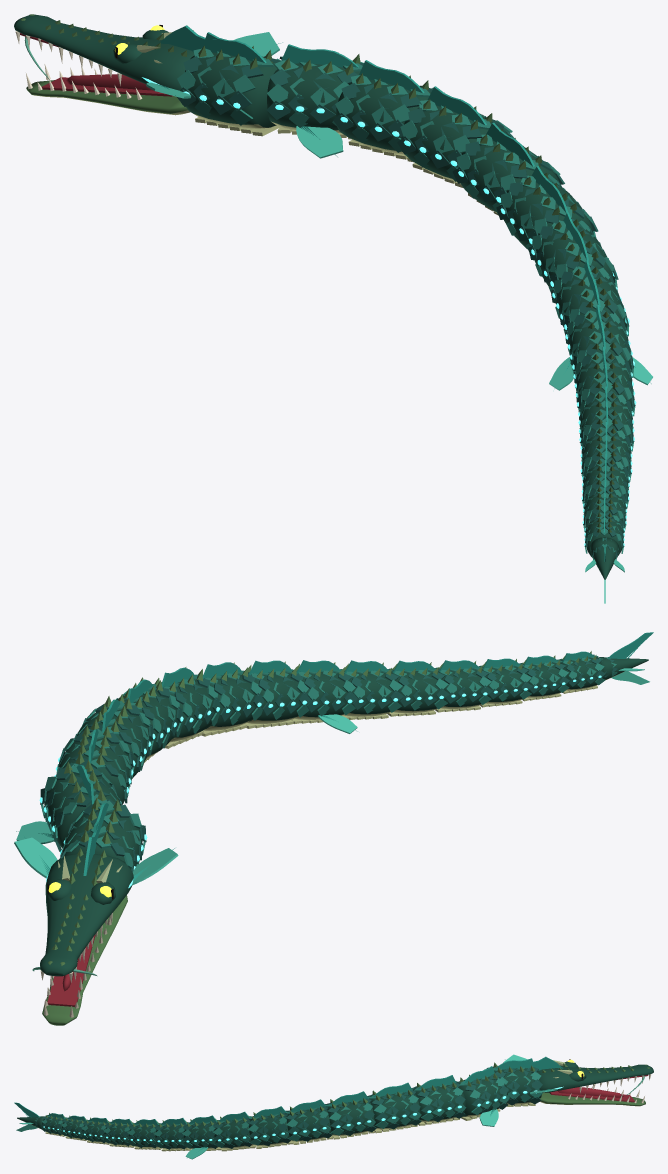
Rendered from thuongluong.glb.
3 views of the same model, one above another, from view 1: azimuth 30°, elevation 25°; view 2: azimuth 150°, elevation 25°; view 3: azimuth 270°, elevation 25° (orthographic). The views are drawn at different scales.
Visible parts, largest first — view 1: HEAD, POSE_SEG_00, POSE_SEG_01, SEG, POSE_SEG_03, POSE_SEG_04, POSE_SEG_05, JAW, POSE_SEG_06, POSE_SEG_07, POSE_SEG_08, POSE_SEG_09 (+7 smaller); view 2: HEAD, POSE_SEG_00, POSE_SEG_01, POSE_SEG_07, SEG, POSE_SEG_06, JAW, POSE_SEG_05, POSE_SEG_08, POSE_SEG_09, POSE_SEG_03, POSE_SEG_10 (+7 smaller); view 3: HEAD, POSE_SEG_03, SEG, POSE_SEG_01, POSE_SEG_04, POSE_SEG_00, POSE_SEG_05, JAW, POSE_SEG_06, POSE_SEG_07, POSE_SEG_08, POSE_SEG_09 (+7 smaller).
Part boxes in pixels (box(x1,y1,x2,y2)): HEAD: box(14, 14, 282, 98); POSE_SEG_00: box(177, 32, 281, 136); POSE_SEG_01: box(266, 44, 363, 139); SEG: box(333, 60, 432, 162); POSE_SEG_03: box(397, 86, 514, 187); POSE_SEG_04: box(452, 122, 564, 215); POSE_SEG_05: box(496, 166, 598, 250); JAW: box(26, 64, 190, 115); POSE_SEG_06: box(528, 212, 618, 292); POSE_SEG_07: box(550, 260, 629, 336); POSE_SEG_08: box(565, 305, 634, 377); POSE_SEG_09: box(573, 347, 636, 416); HEAD: box(14, 823, 178, 982); POSE_SEG_00: box(59, 797, 147, 871); POSE_SEG_01: box(39, 760, 121, 851); POSE_SEG_07: box(245, 660, 310, 728); SEG: box(54, 725, 135, 804); POSE_SEG_06: box(198, 662, 263, 736); JAW: box(42, 895, 127, 1025); POSE_SEG_05: box(155, 667, 220, 748); POSE_SEG_08: box(291, 660, 357, 723); POSE_SEG_09: box(340, 660, 403, 719); POSE_SEG_03: box(74, 696, 155, 778); POSE_SEG_10: box(387, 660, 449, 716); HEAD: box(503, 1054, 653, 1095); POSE_SEG_03: box(367, 1082, 421, 1133); SEG: box(412, 1075, 466, 1125); POSE_SEG_01: box(456, 1066, 509, 1120); POSE_SEG_04: box(325, 1091, 376, 1139); POSE_SEG_00: box(484, 1058, 542, 1106); POSE_SEG_05: box(285, 1099, 332, 1144); JAW: box(540, 1086, 645, 1106); POSE_SEG_06: box(248, 1106, 293, 1148); POSE_SEG_07: box(213, 1111, 256, 1151); POSE_SEG_08: box(182, 1115, 222, 1150); POSE_SEG_09: box(154, 1118, 191, 1151).
Bounding box in the file's own units: 53.93 × 36.97 × 212.
